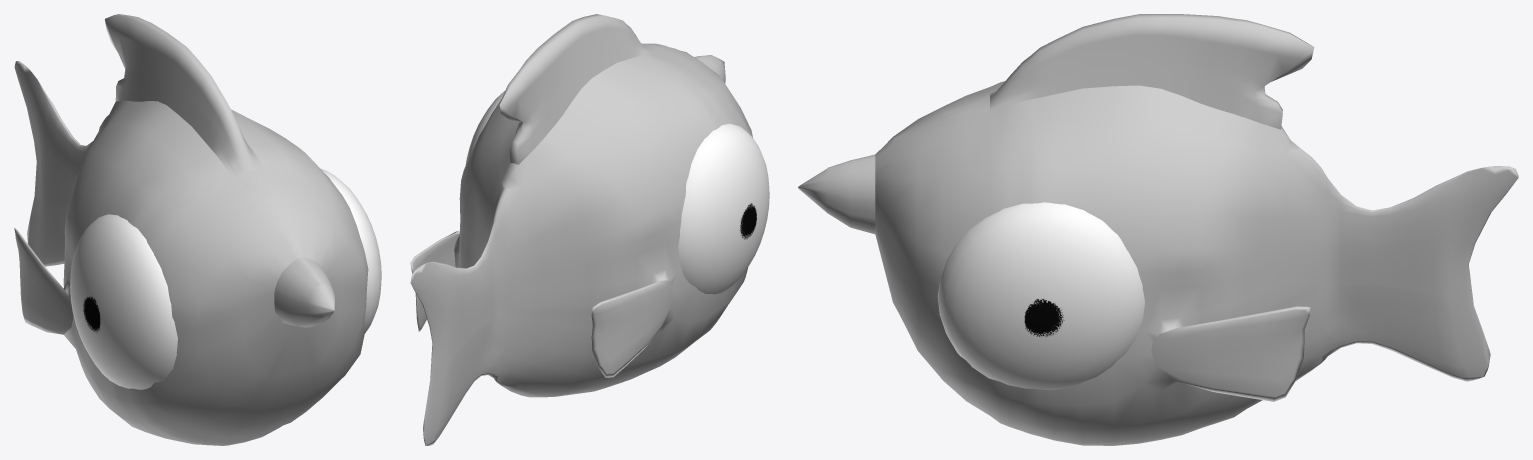
The model's file is ChickenFish_Model_FBX_V02.FBX.
3 renders of one model, left to right at view 1: azimuth 30°, elevation 25°; view 2: azimuth 150°, elevation 25°; view 3: azimuth 270°, elevation 25°, orthographic. The views are drawn at different scales.
Parts seen in each view (by area): view 1: ChickenFish_Body, ChickenFish_RightEye, ChickenFish_LeftEye; view 2: ChickenFish_Body, ChickenFish_RightEye, ChickenFish_LeftEye; view 3: ChickenFish_Body, ChickenFish_LeftEye.
Boxes of the visible parts, x1=… form: ChickenFish_Body: x1=14, y1=14, x2=368, y2=445; ChickenFish_RightEye: x1=70, y1=214, x2=177, y2=389; ChickenFish_LeftEye: x1=321, y1=169, x2=381, y2=333; ChickenFish_Body: x1=410, y1=14, x2=752, y2=445; ChickenFish_RightEye: x1=678, y1=123, x2=769, y2=294; ChickenFish_LeftEye: x1=465, y1=91, x2=504, y2=165; ChickenFish_Body: x1=798, y1=14, x2=1518, y2=445; ChickenFish_LeftEye: x1=937, y1=202, x2=1144, y2=389.
Bounding box in the file's own units: 63.05 × 82.41 × 130.
